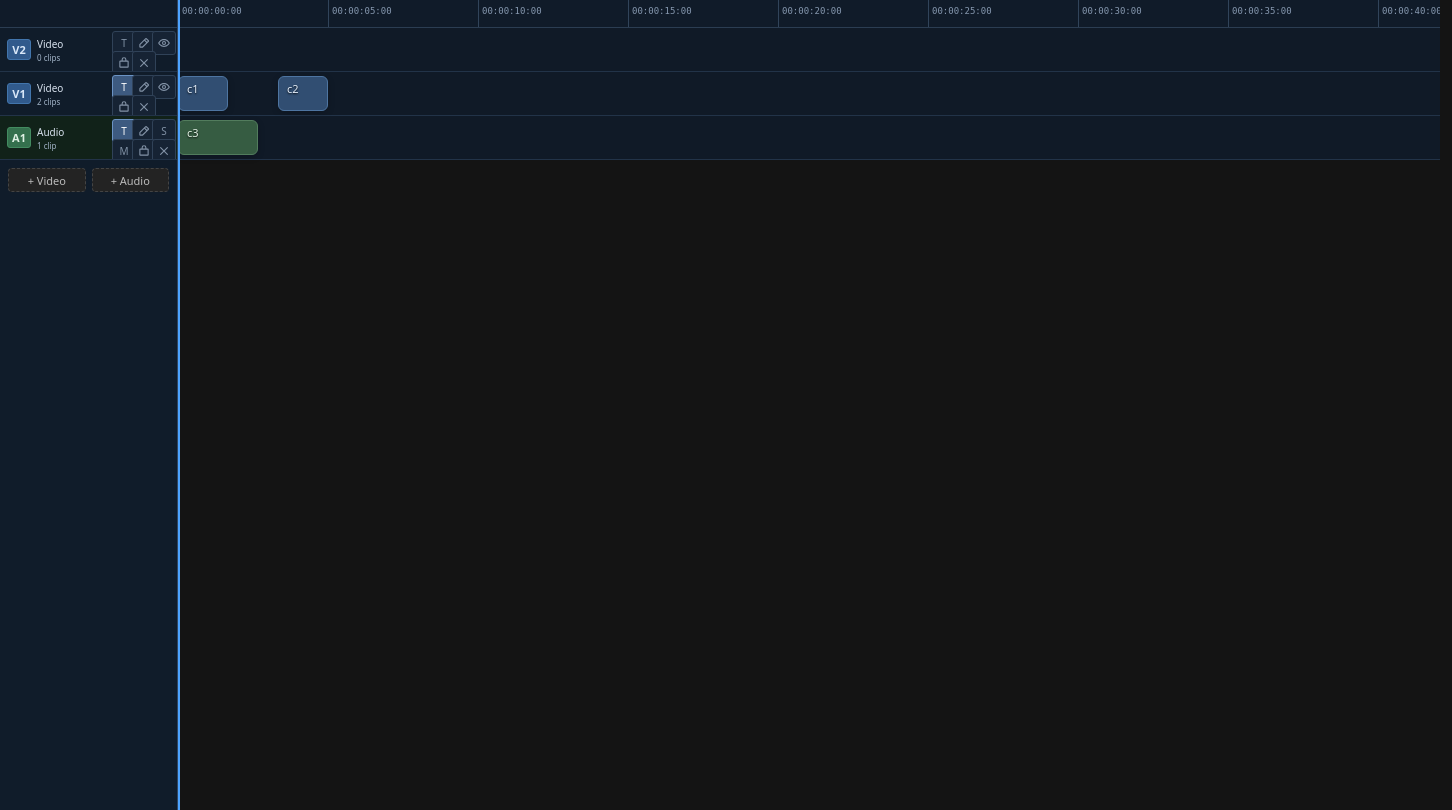
Test case: rename (double-click the header) › Enter commits the trimmed name as ONE entry; badge shows it
The width and height of the screenshot is (1452, 810).
Double-click the element with test id "track-header-V1" at point(88, 94), box [0, 72, 177, 116]
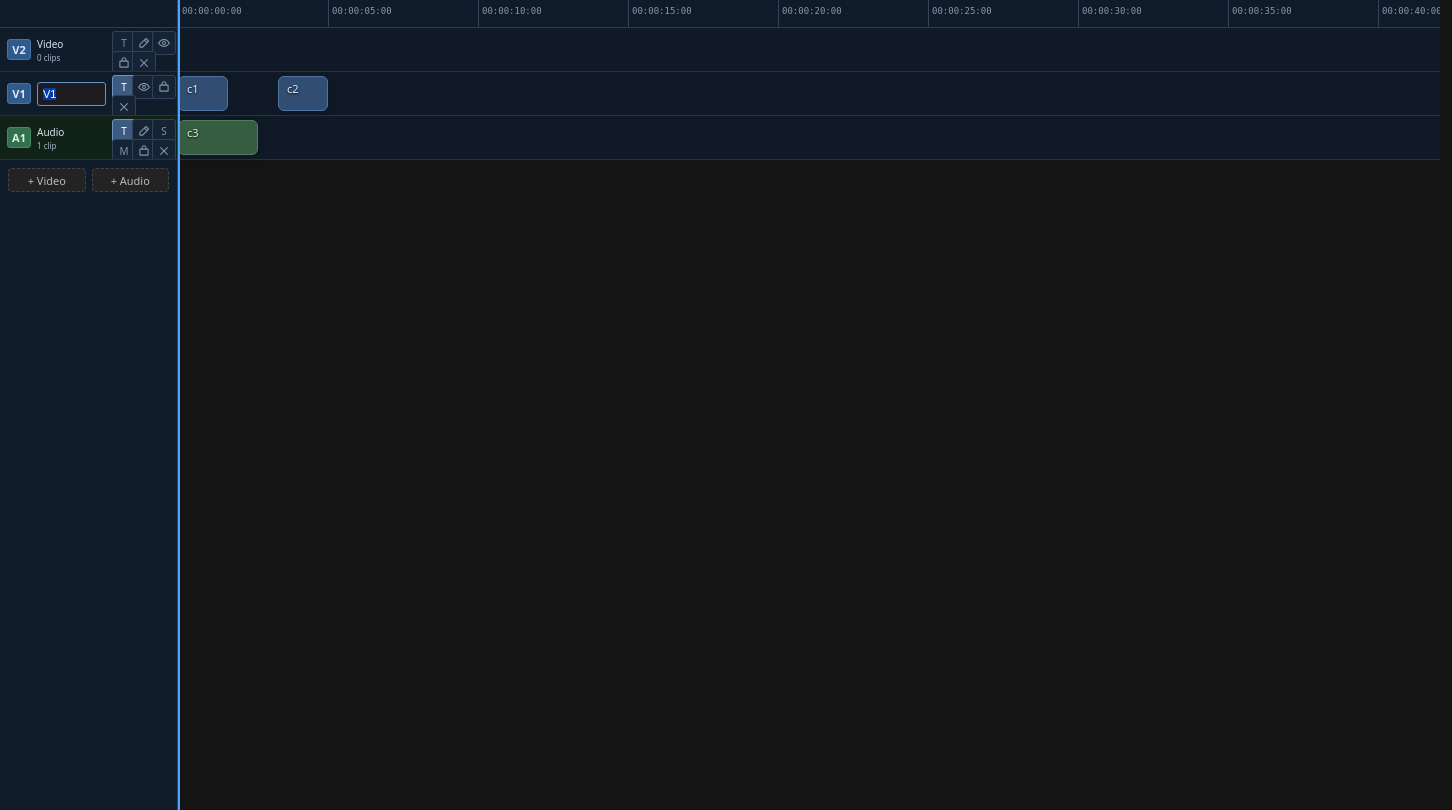
Now the field with test id "track-rename-V1" holds "V1"
Replace the text in the field with test id "track-rename-V1" with "  Main cam " at point(72, 94), box [37, 82, 106, 106]
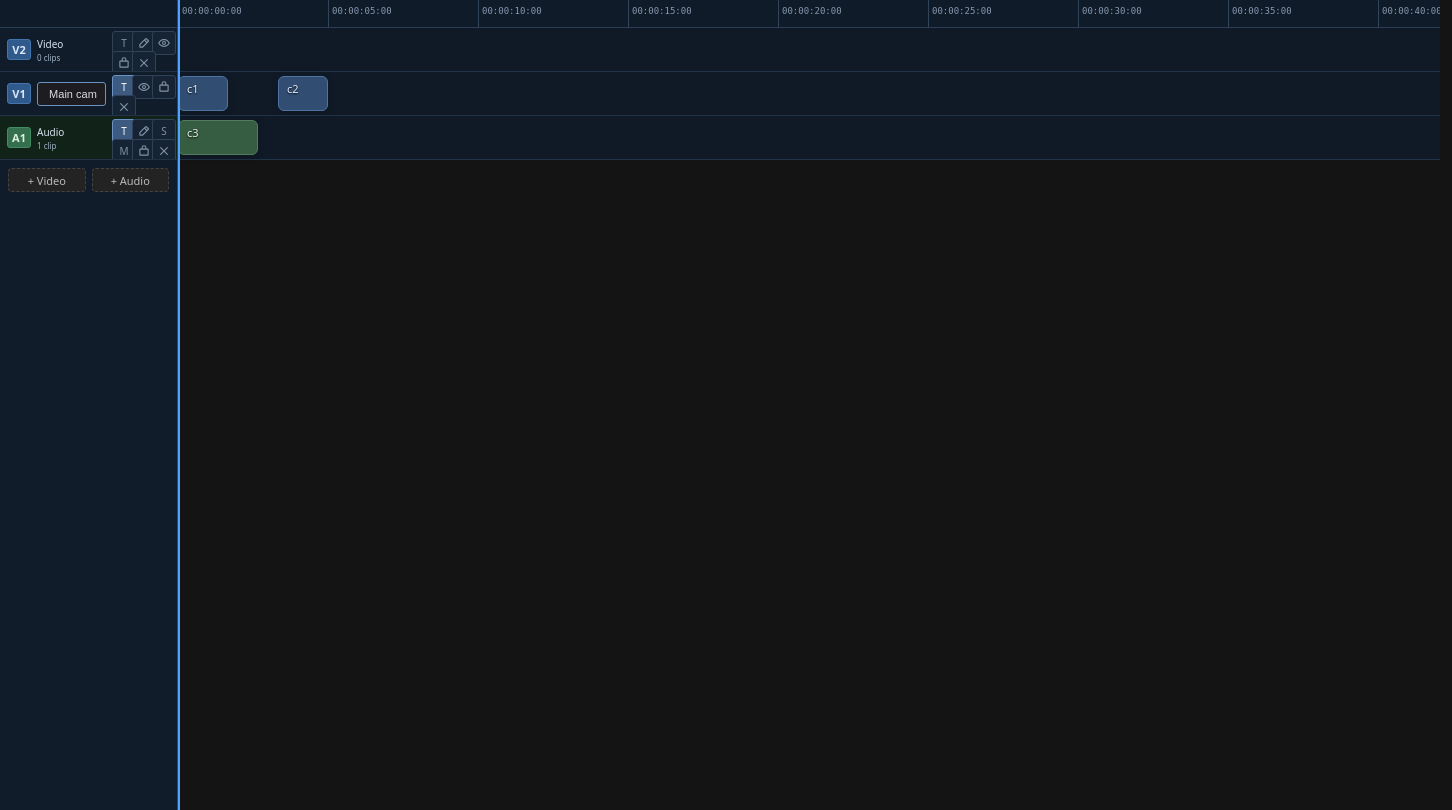
Press Enter in the field with test id "track-rename-V1", box [37, 82, 106, 106]
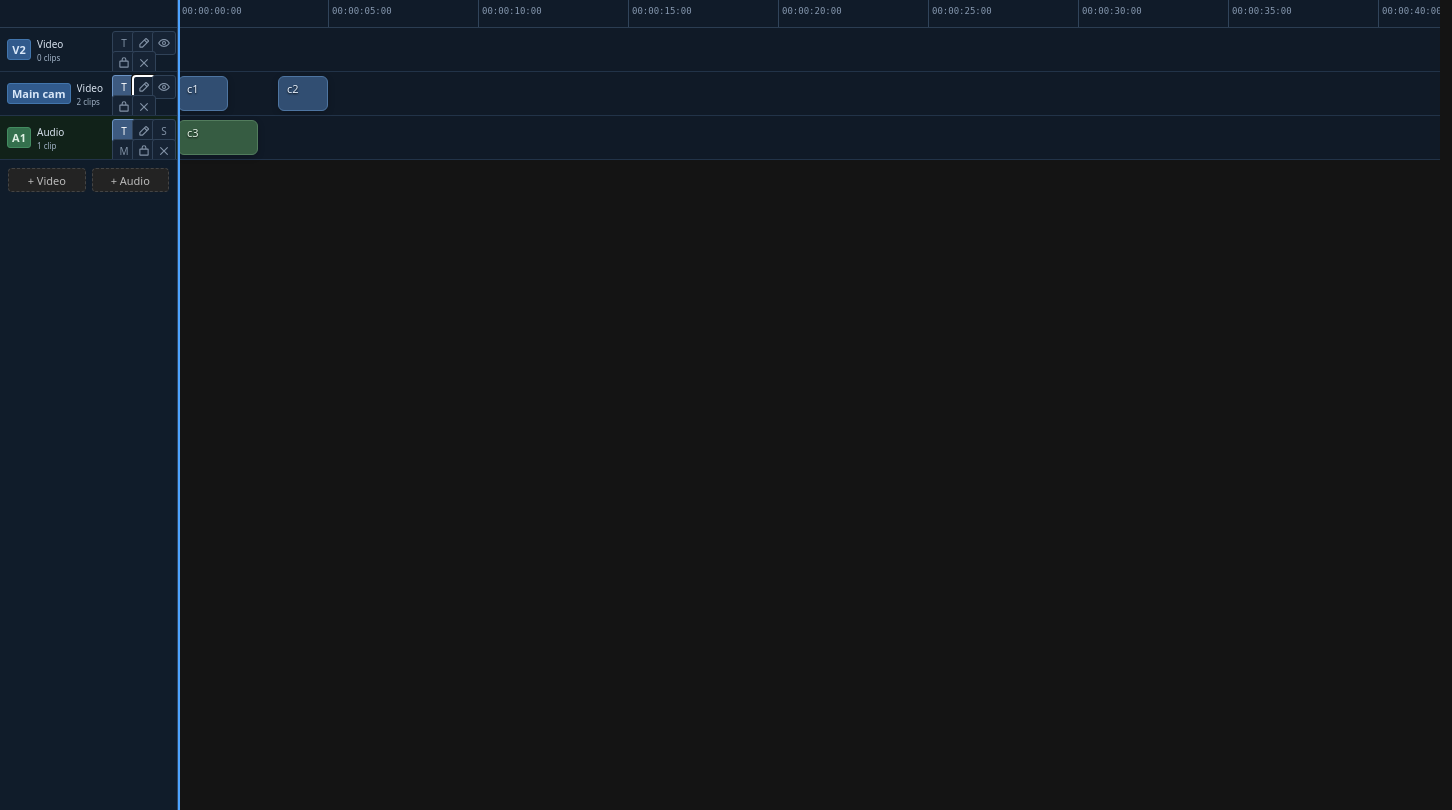
Now the text "Main cam" is shown, box [7, 83, 71, 104]
Now the field with test id "track-rename-V1" is gone
Now the element with test id "track-header-V1" shows "Main cam", box [12, 86, 66, 101]
